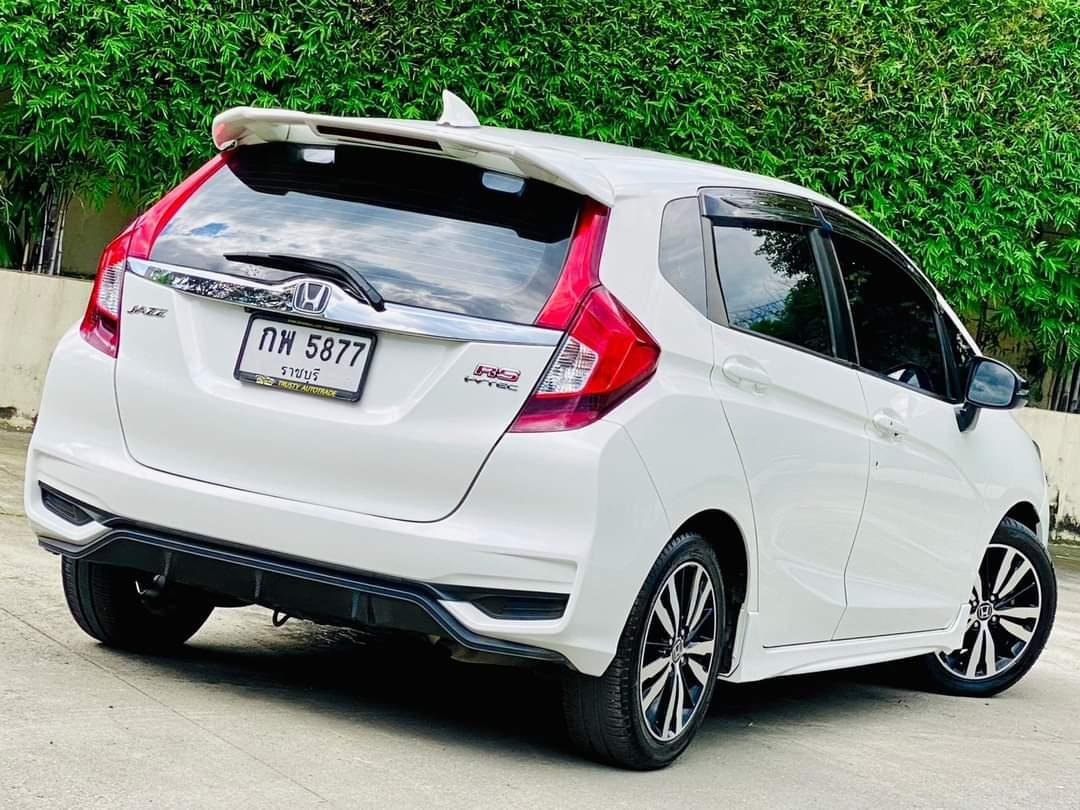license-plate: (232, 306, 380, 407)
